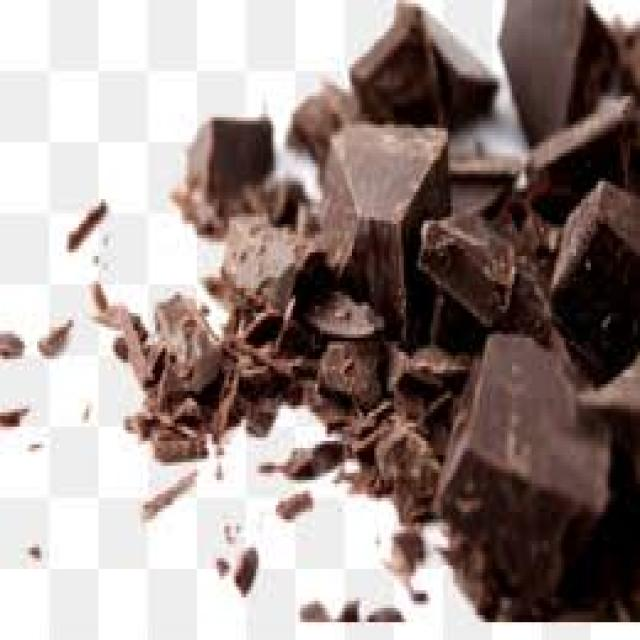Chocolate: (100, 0, 640, 619)
